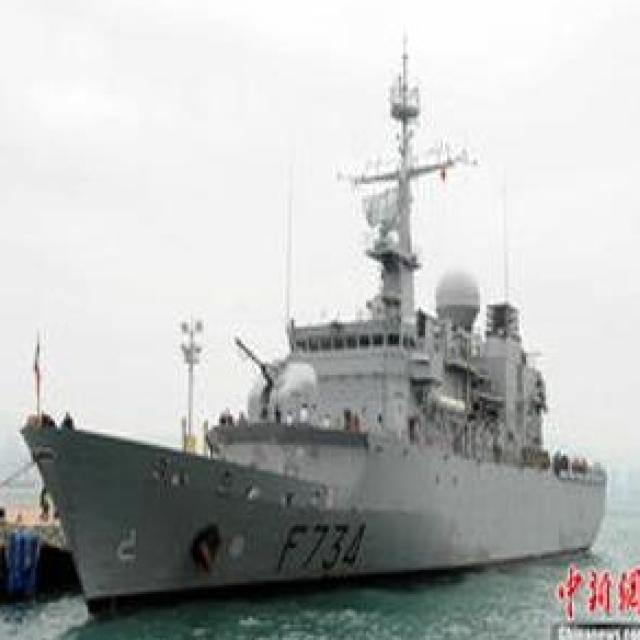navalvessels: (33, 41, 636, 618)
